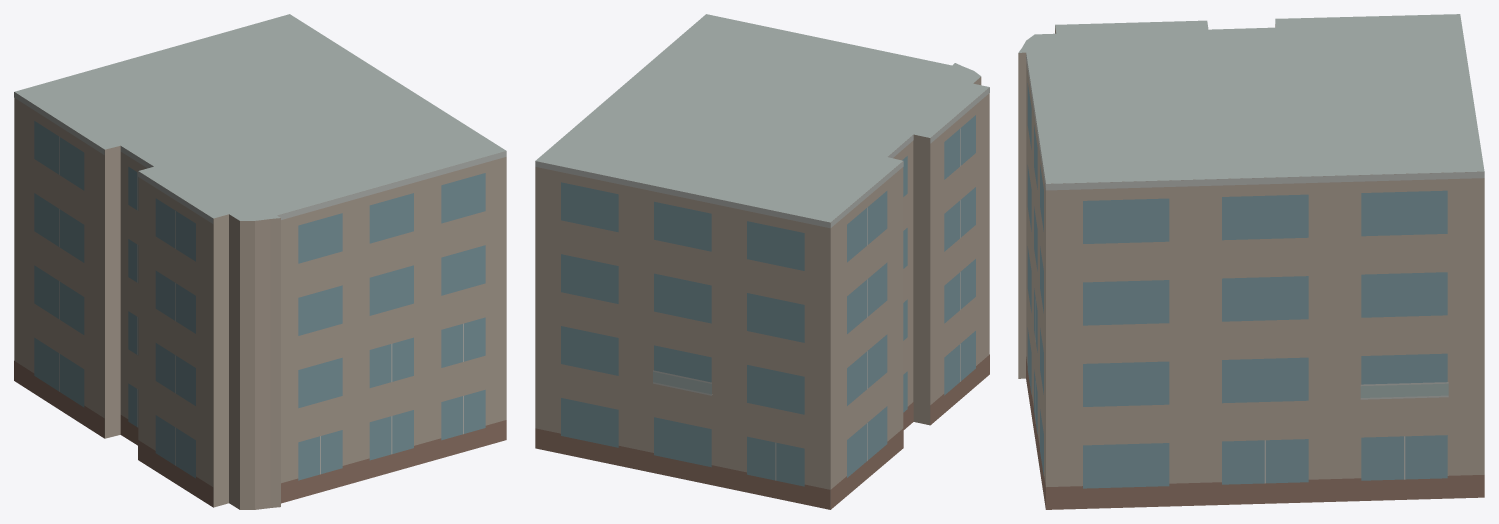
File: survey-upis-32813243.glb
3 renders of one model, left to right at view 1: azimuth 30°, elevation 25°; view 2: azimuth 150°, elevation 25°; view 3: azimuth 270°, elevation 25°, orthographic. The views are drawn at different scales.
Visible parts, largest first — view 1: survey-upis-32813243.tmp; view 2: survey-upis-32813243.tmp; view 3: survey-upis-32813243.tmp.
Part boxes in pixels (x1=…): survey-upis-32813243.tmp: x1=14, y1=14, x2=506, y2=509; survey-upis-32813243.tmp: x1=535, y1=14, x2=989, y2=509; survey-upis-32813243.tmp: x1=1018, y1=14, x2=1484, y2=509.
Size of the model in its own units: 13.59 by 12.15 by 15.76.
